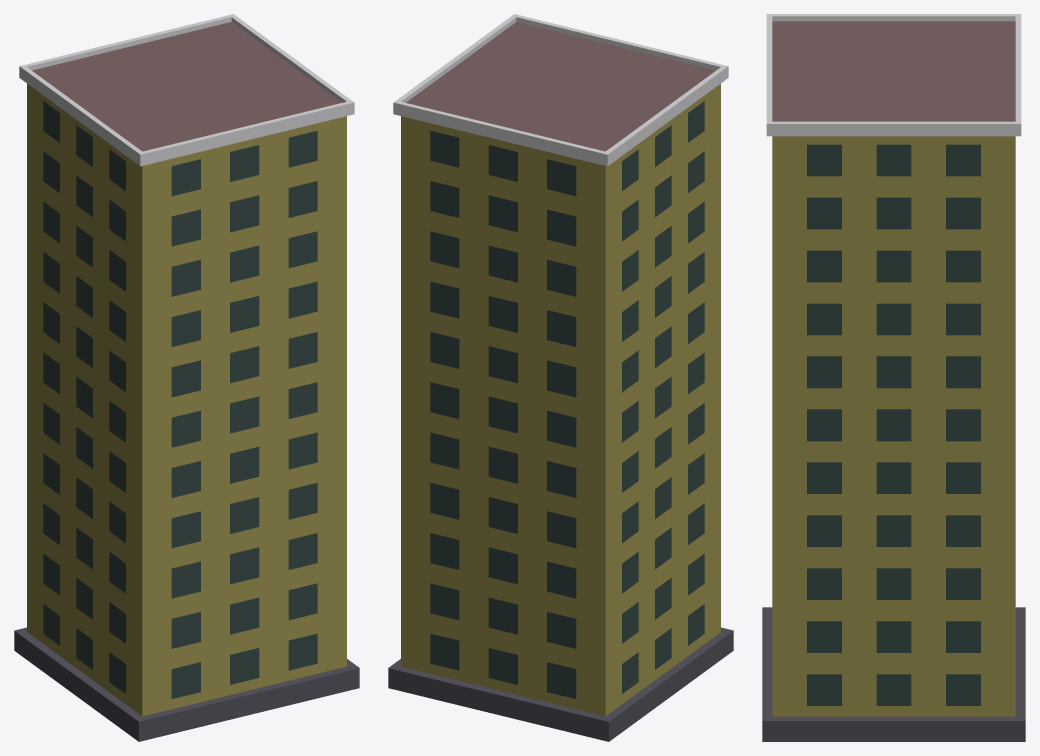
Rendered from building30a.FBX.
3 renders of one model, left to right at view 1: azimuth 30°, elevation 25°; view 2: azimuth 150°, elevation 25°; view 3: azimuth 270°, elevation 25°, orthographic. The views are drawn at different scales.
Visible parts, largest first — view 1: building30a; view 2: building30a; view 3: building30a.
Part boxes in pixels (x1,y1,x2,y2): building30a: [14, 14, 359, 741]; building30a: [388, 14, 733, 741]; building30a: [762, 14, 1025, 741].
Bounding box in the file's own units: 17.57 × 44.48 × 17.21.
